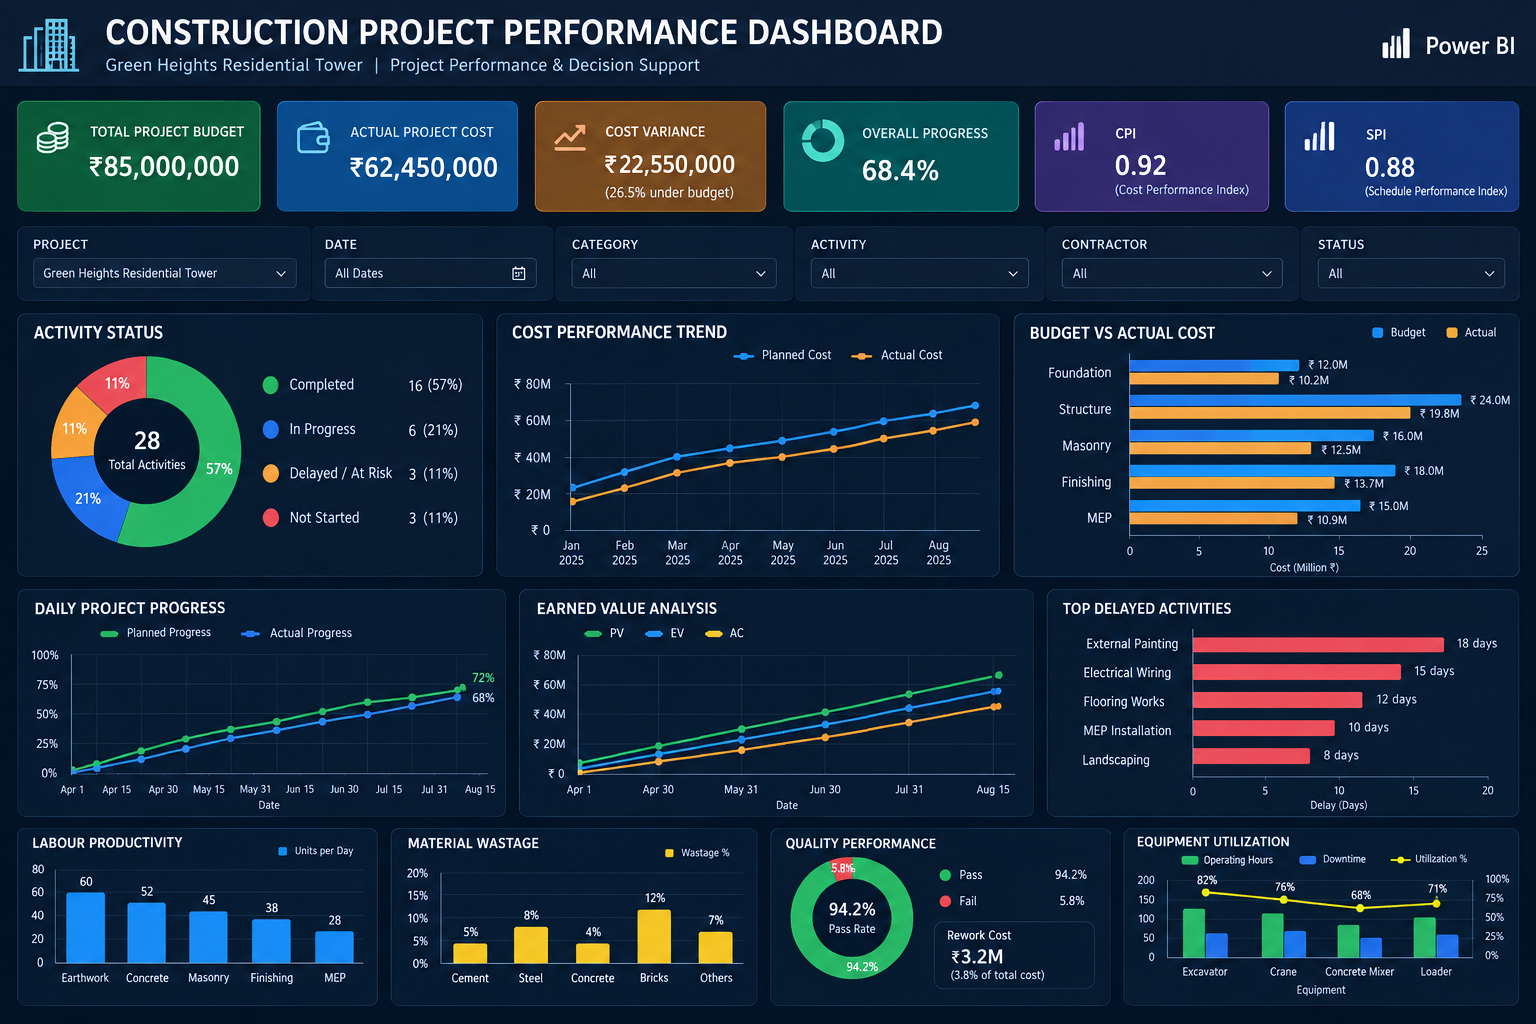

What the dashboard file says about the page in this screenshot:
{"tool":"powerbi","page":{"name":"Page ","canvas":[1920,1080],"ordinal":0},"visuals":[{"type":"textbox","box":[365.1,0,1020.7,72.6],"z":0},{"type":"cardVisual","fields":{"Data":["Sum(construction_project_analytics projects.Total_Budget_INR)"]},"box":[30.3,110.9,302.6,123.1],"z":1000},{"type":"cardVisual","fields":{"Data":["Sum(construction_project_analytics vw_project_kpis.Cost_Variance_INR)"]},"box":[671.7,121,288.5,121],"z":2000},{"type":"cardVisual","fields":{"Data":["Sum(construction_project_analytics cost_transactions.Actual_Cost_INR)"]},"box":[340.9,104.9,286.4,121],"z":3000},{"type":"cardVisual","fields":{"Data":["construction_project_analytics vw_activity_performance.Measure"]},"box":[968.3,119,298.6,121],"z":4000},{"type":"cardVisual","fields":{"Data":["construction_project_analytics vw_activity_performance.CPI"]},"box":[1283,119,286.4,121],"z":5000},{"type":"cardVisual","fields":{"Data":["construction_project_analytics vw_activity_performance.SPI"]},"box":[1595.6,104.9,286.4,135.2],"z":6000},{"type":"slicer","fields":{"Values":["construction_project_analytics projects.Project_Name"]},"box":[54.5,258.2,326.8,58.5],"z":7000},{"type":"slicer","fields":{"Values":["construction_project_analytics progress.Date"]},"box":[397.4,258.2,274.3,46.4],"z":8000},{"type":"slicer","fields":{"Values":["construction_project_analytics activities.Category"]},"box":[706,258.2,254.2,46.4],"z":9000},{"type":"slicer","fields":{"Values":["construction_project_analytics activities.Activity_Name"]},"box":[994.5,258.2,272.3,48.4],"z":10000},{"type":"slicer","fields":{"Values":["construction_project_analytics contractors.Contractor_Name"]},"box":[1327.3,258.2,219.9,46.4],"z":11000},{"type":"slicer","fields":{"Values":["construction_project_analytics progress.Status"]},"box":[1619.8,258.2,238,46.4],"z":12000},{"type":"donutChart","fields":{"Category":["construction_project_analytics progress.Status"],"Y":["CountNonNull(construction_project_analytics progress.Activity_ID)"]},"box":[46.4,342.9,572.9,213.8],"z":13000},{"type":"lineChart","fields":{"Category":["construction_project_analytics cost_transactions.Date.Variation.Date Hierarchy.Year","construction_project_analytics cost_transactions.Date.Variation.Date Hierarchy.Quarter","construction_project_analytics cost_transactions.Date.Variation.Date Hierarchy.Month","construction_project_analytics cost_transactions.Date.Variation.Date Hierarchy.Day"],"Y":["Sum(construction_project_analytics cost_transactions.Actual_Cost_INR)"]},"box":[671.7,342.9,595.1,197.7],"z":14000},{"type":"lineClusteredColumnComboChart","fields":{"Category":["construction_project_analytics activities.Activity_Name"],"Y":["Sum(construction_project_analytics cost_transactions.Actual_Cost_INR)","Sum(construction_project_analytics activities.Budget_Cost_INR)"]},"box":[1309.2,342.9,572.9,197.7],"z":15000},{"type":"lineChart","fields":{"Category":["construction_project_analytics progress.Date.Variation.Date Hierarchy.Year","construction_project_analytics progress.Date.Variation.Date Hierarchy.Quarter","construction_project_analytics progress.Date.Variation.Date Hierarchy.Month","construction_project_analytics progress.Date.Variation.Date Hierarchy.Day"],"Y":["Avg(construction_project_analytics progress.Actual_Percentage)","Avg(construction_project_analytics progress.Planned_Percentage)"]},"box":[46.4,574.9,572.9,203.7],"z":16000},{"type":"lineChart","fields":{"Category":["construction_project_analytics progress.Date.Variation.Date Hierarchy.Year","construction_project_analytics progress.Date.Variation.Date Hierarchy.Quarter","construction_project_analytics progress.Date.Variation.Date Hierarchy.Month","construction_project_analytics progress.Date.Variation.Date Hierarchy.Day"],"Y":["construction_project_analytics vw_activity_performance.Earned Value","construction_project_analytics vw_activity_performance.Actual Cost","construction_project_analytics vw_activity_performance.Planned Value"]},"box":[651.6,574.9,615.3,193.7],"z":17000},{"type":"barChart","fields":{"Category":["construction_project_analytics vw_activity_performance.Activity_Name"],"Y":["Max(construction_project_analytics vw_activity_performance.Delay_Days)"]},"box":[1335.4,585,546.7,183.6],"z":18000},{"type":"barChart","fields":{"Category":["construction_project_analytics vw_labour_productivity.Activity_Name"],"Y":["Avg(construction_project_analytics vw_labour_productivity.Average_Productivity_Rate)"]},"box":[54.5,788.7,429.7,175.5],"z":19000},{"type":"barChart","fields":{"Category":["construction_project_analytics vw_material_wastage.Material_Name"],"Y":["Avg(construction_project_analytics vw_material_wastage.Wastage_Percentage)"]},"box":[508.3,800.8,451.9,149.3],"z":20000},{"type":"donutChart","fields":{"Category":["construction_project_analytics quality.Result"],"Y":["CountNonNull(construction_project_analytics quality.Inspection_ID)"]},"box":[970.3,802.9,439.8,149.3],"z":21000},{"type":"barChart","fields":{"Category":["construction_project_analytics equipment.Equipment_Name"],"Y":["Sum(construction_project_analytics equipment.Operating_Hours)"]},"box":[1446.4,802.9,435.7,149.3],"z":22000}]}

Visuals, with their boxes on the page's 1920x1080 design canvas (x1, y1, x2, y2). These are canvas units, not pixel positions in the 1536x1024 screenshot, which may show the page scaled, cropped or inside an application window:
textbox: region(365, 0, 1386, 73)
cardVisual - Sum(construction_project_analytics projects.Total_Budget_INR): region(30, 111, 333, 234)
cardVisual - Sum(construction_project_analytics vw_project_kpis.Cost_Variance_INR): region(672, 121, 960, 242)
cardVisual - Sum(construction_project_analytics cost_transactions.Actual_Cost_INR): region(341, 105, 627, 226)
cardVisual - construction_project_analytics vw_activity_performance.Measure: region(968, 119, 1267, 240)
cardVisual - construction_project_analytics vw_activity_performance.CPI: region(1283, 119, 1569, 240)
cardVisual - construction_project_analytics vw_activity_performance.SPI: region(1596, 105, 1882, 240)
slicer - construction_project_analytics projects.Project_Name: region(54, 258, 381, 317)
slicer - construction_project_analytics progress.Date: region(397, 258, 672, 305)
slicer - construction_project_analytics activities.Category: region(706, 258, 960, 305)
slicer - construction_project_analytics activities.Activity_Name: region(994, 258, 1267, 307)
slicer - construction_project_analytics contractors.Contractor_Name: region(1327, 258, 1547, 305)
slicer - construction_project_analytics progress.Status: region(1620, 258, 1858, 305)
donutChart - construction_project_analytics progress.Status x CountNonNull(construction_project_analytics progress.Activity_ID): region(46, 343, 619, 557)
lineChart - construction_project_analytics cost_transactions.Date.Variation.Date Hierarchy.Year x construction_project_analytics cost_transactions.Date.Variation.Date Hierarchy.Quarter: region(672, 343, 1267, 541)
lineClusteredColumnComboChart - construction_project_analytics activities.Activity_Name x Sum(construction_project_analytics cost_transactions.Actual_Cost_INR): region(1309, 343, 1882, 541)
lineChart - construction_project_analytics progress.Date.Variation.Date Hierarchy.Year x construction_project_analytics progress.Date.Variation.Date Hierarchy.Quarter: region(46, 575, 619, 779)
lineChart - construction_project_analytics progress.Date.Variation.Date Hierarchy.Year x construction_project_analytics progress.Date.Variation.Date Hierarchy.Quarter: region(652, 575, 1267, 769)
barChart - construction_project_analytics vw_activity_performance.Activity_Name x Max(construction_project_analytics vw_activity_performance.Delay_Days): region(1335, 585, 1882, 769)
barChart - construction_project_analytics vw_labour_productivity.Activity_Name x Avg(construction_project_analytics vw_labour_productivity.Average_Productivity_Rate): region(54, 789, 484, 964)
barChart - construction_project_analytics vw_material_wastage.Material_Name x Avg(construction_project_analytics vw_material_wastage.Wastage_Percentage): region(508, 801, 960, 950)
donutChart - construction_project_analytics quality.Result x CountNonNull(construction_project_analytics quality.Inspection_ID): region(970, 803, 1410, 952)
barChart - construction_project_analytics equipment.Equipment_Name x Sum(construction_project_analytics equipment.Operating_Hours): region(1446, 803, 1882, 952)
